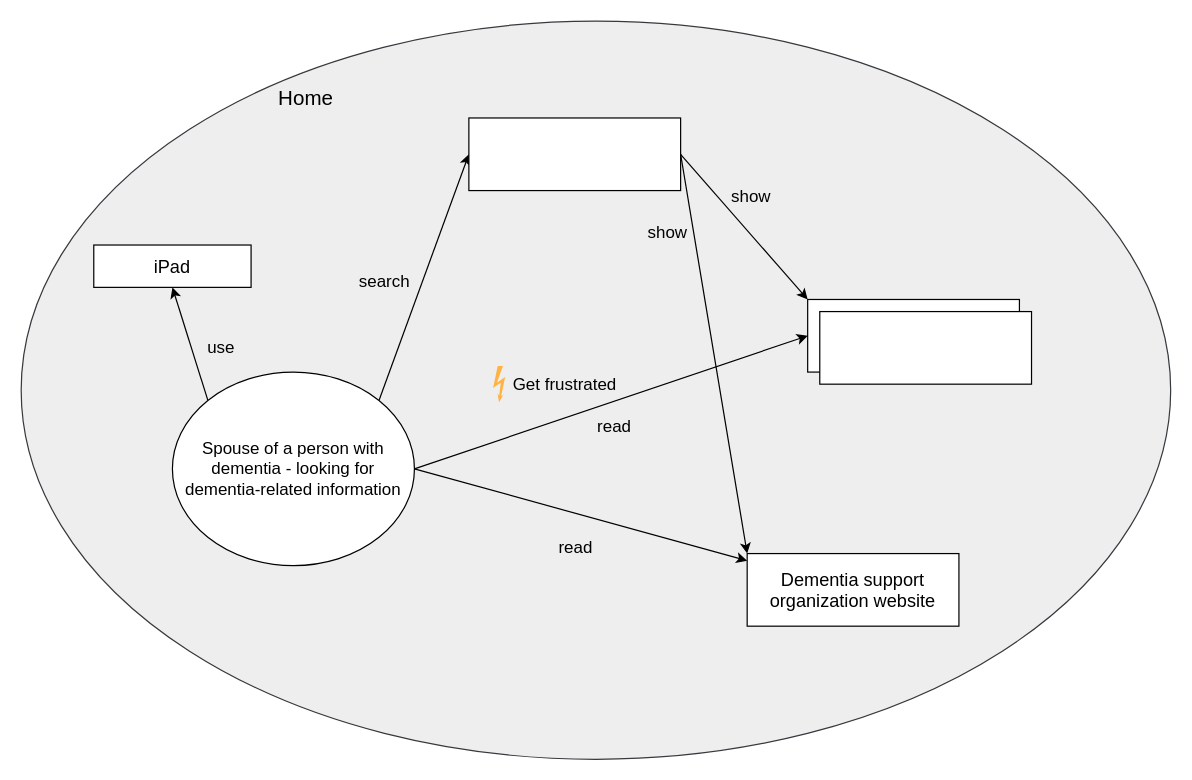
This 1192x780 diagram has some shape labels left out. Each missing label, with the centre of its shape:
"dementia-related websites" goes at point (925, 347).
"Google" goes at point (574, 154).
